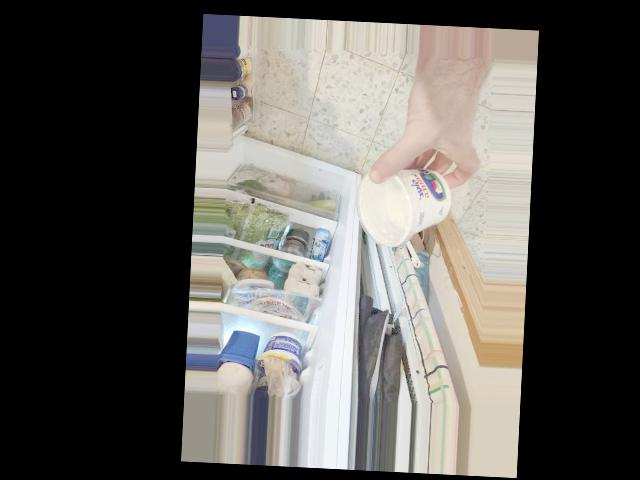cotage: (366, 167, 442, 254)
